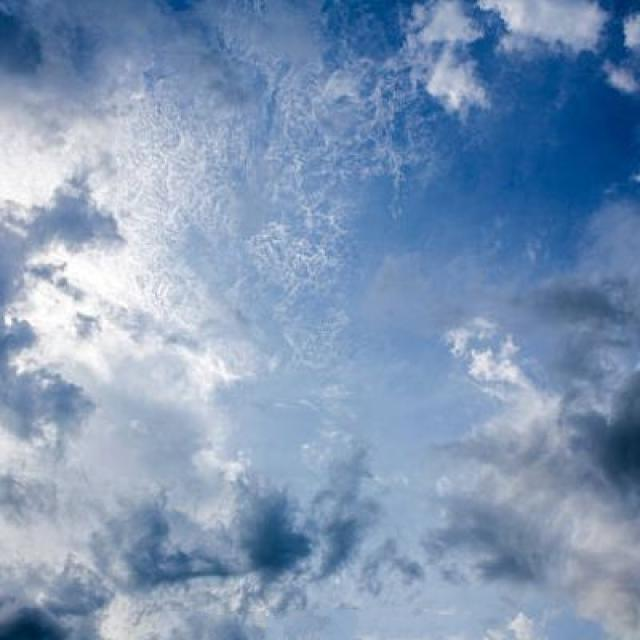Ns: (8, 25, 640, 636)
